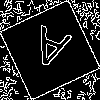A: (25, 25, 73, 79)
